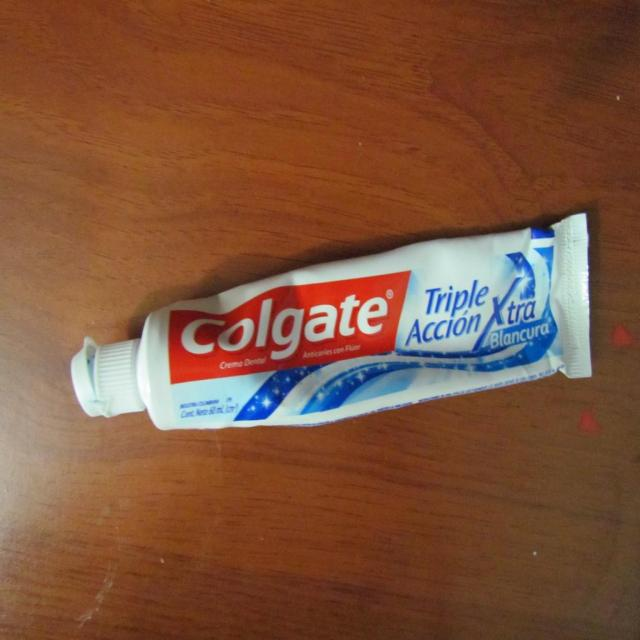Toothpaste: (67, 204, 593, 436)
